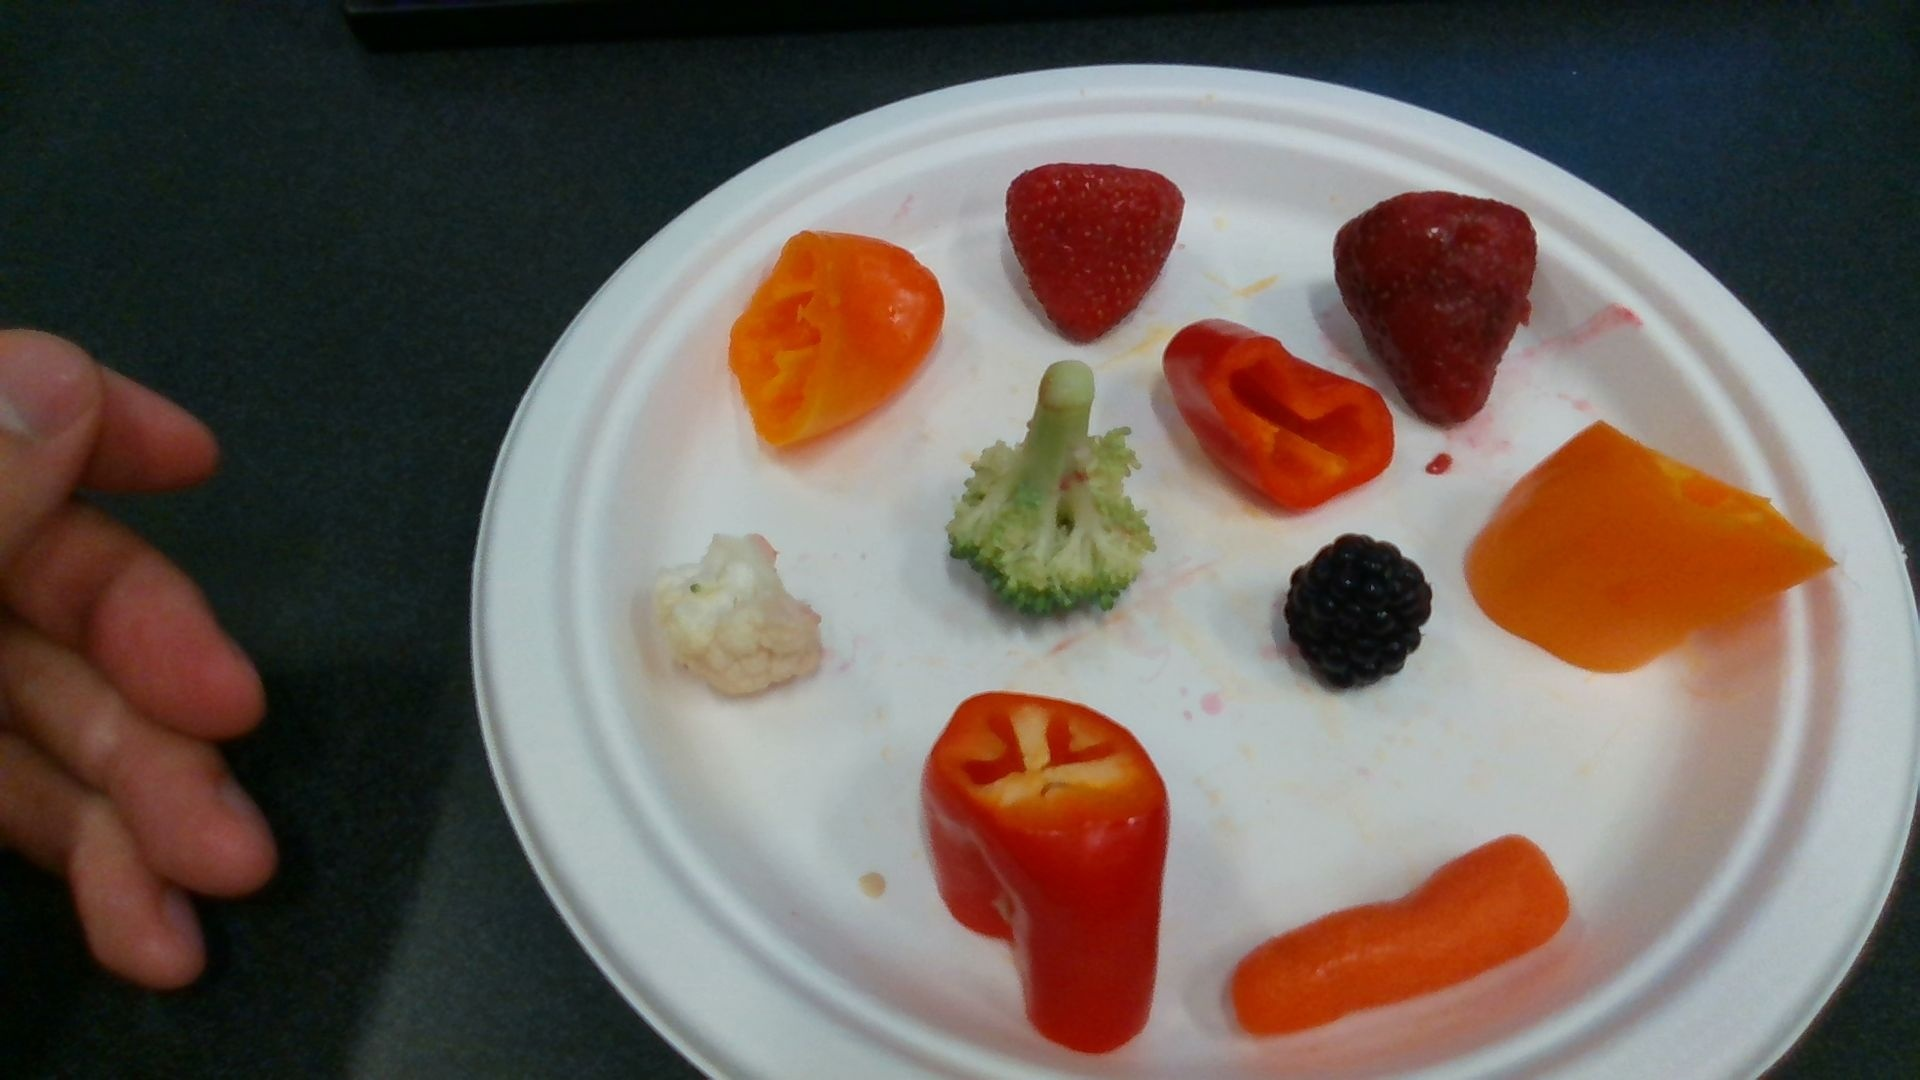bell_pepper: (1466, 423, 1832, 671), (924, 695, 1170, 1054), (731, 229, 944, 446), (1164, 320, 1395, 508)
blackberry: (1284, 535, 1432, 691)
broccoli: (949, 361, 1153, 615)
carrot: (1226, 840, 1569, 1035)
cauliflower: (657, 535, 824, 696)
strawberry: (1335, 196, 1534, 419), (1007, 164, 1185, 340)
